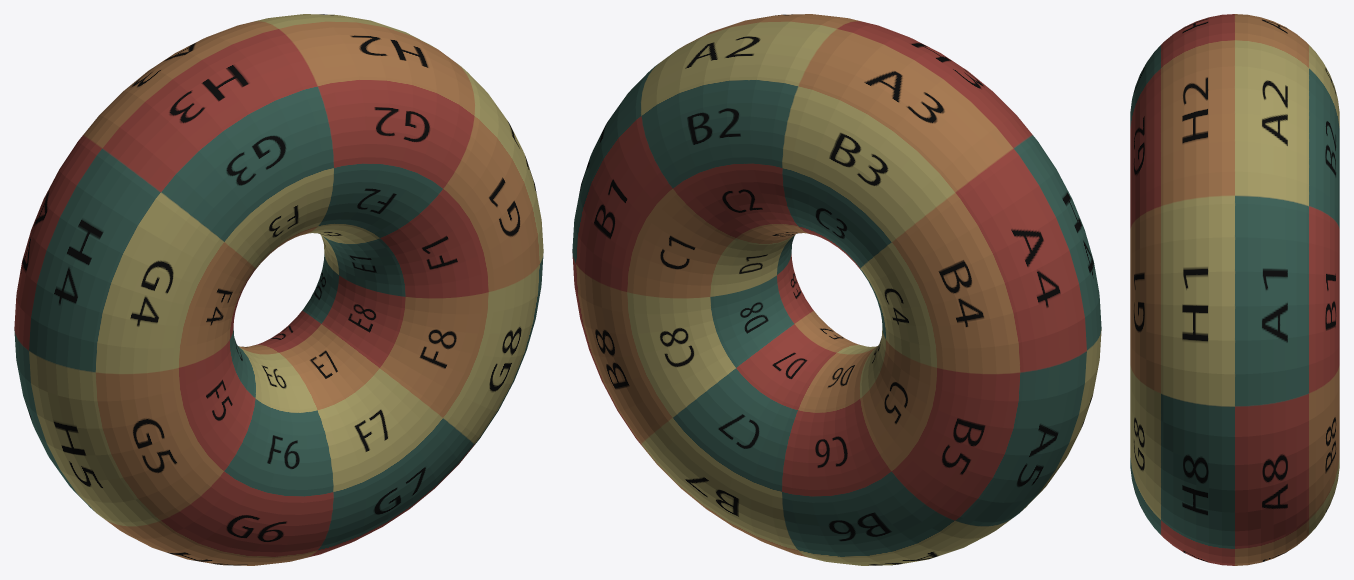
File: texture_torus_R1_r17.glb
The picture shows the model from 3 angles, left to right: view 1: azimuth 30°, elevation 25°; view 2: azimuth 150°, elevation 25°; view 3: azimuth 270°, elevation 25°; orthographic projection. The views are drawn at different scales.
Visible parts, largest first — view 1: world; view 2: world; view 3: world.
Part boxes in pixels (x1,y1,x2,y2): world: [14, 14, 543, 565]; world: [572, 14, 1101, 565]; world: [1130, 14, 1339, 565].
Size of the model in its own units: 17.2 by 17.17 by 6.52.
1 material, 1 textured.
